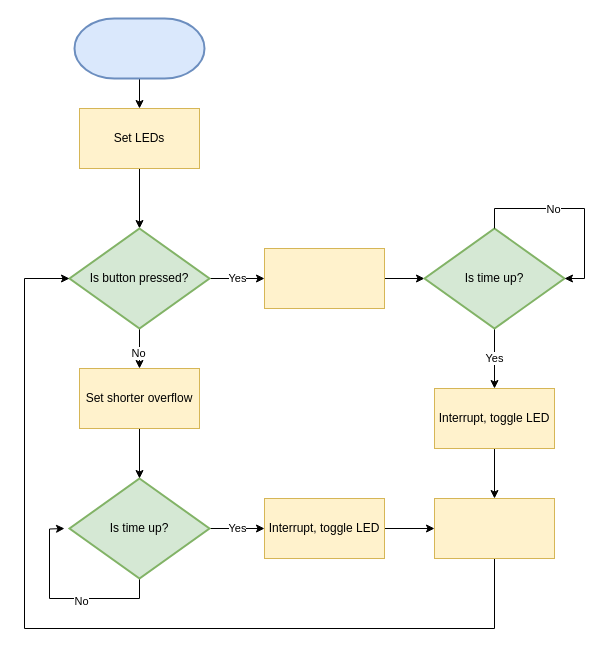
Some shapes in this 610 by 654 pixel diagram are drawn without their labels. Here are the shapes that lost their labels. From the top down, the centre of each, then its label:
At [139,48]: "Start".
At [324,278]: "Set faster overflow".
At [494,528]: "Exit intteruption".
